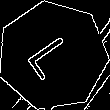L_NE: (23, 29, 83, 83)
